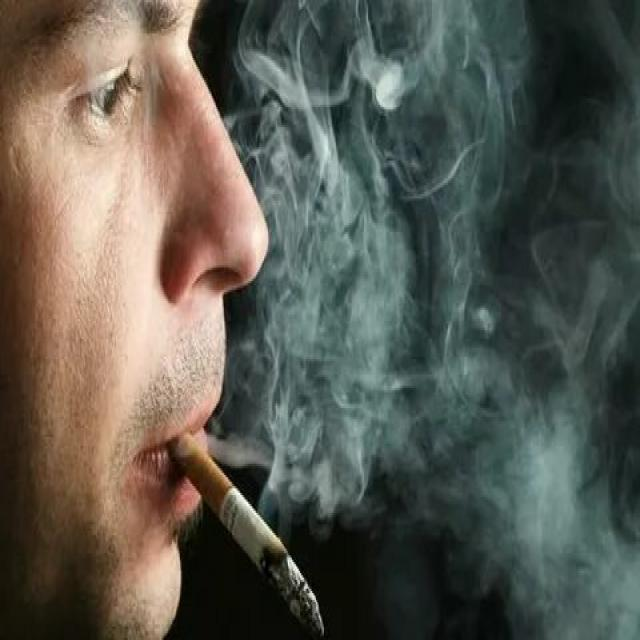smoke: (165, 417, 328, 640)
